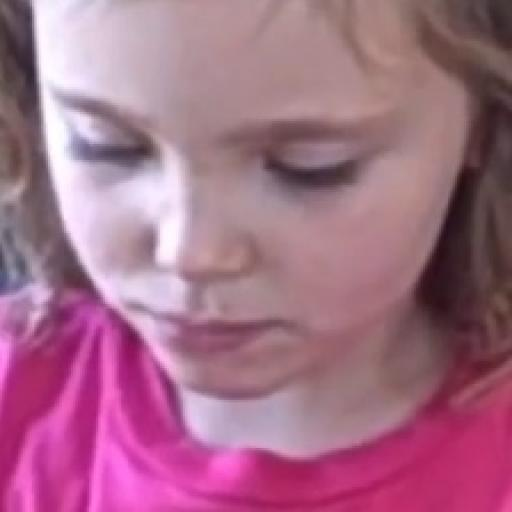Autism: (34, 0, 512, 439)
